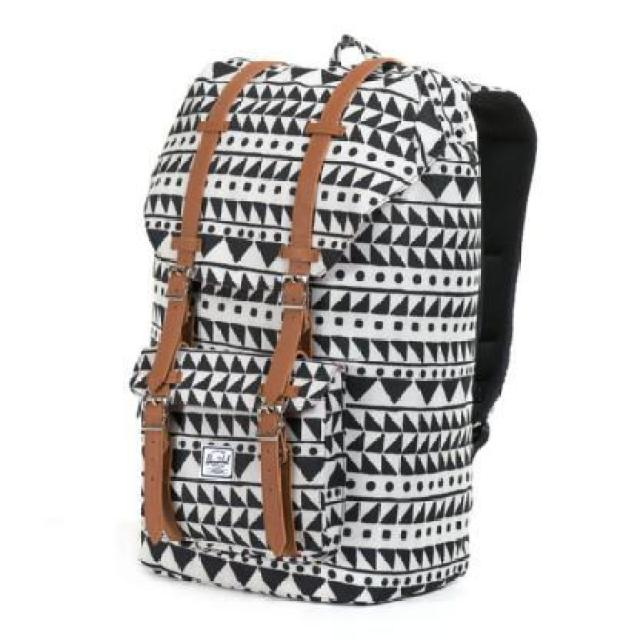backpack: (126, 26, 545, 614)
